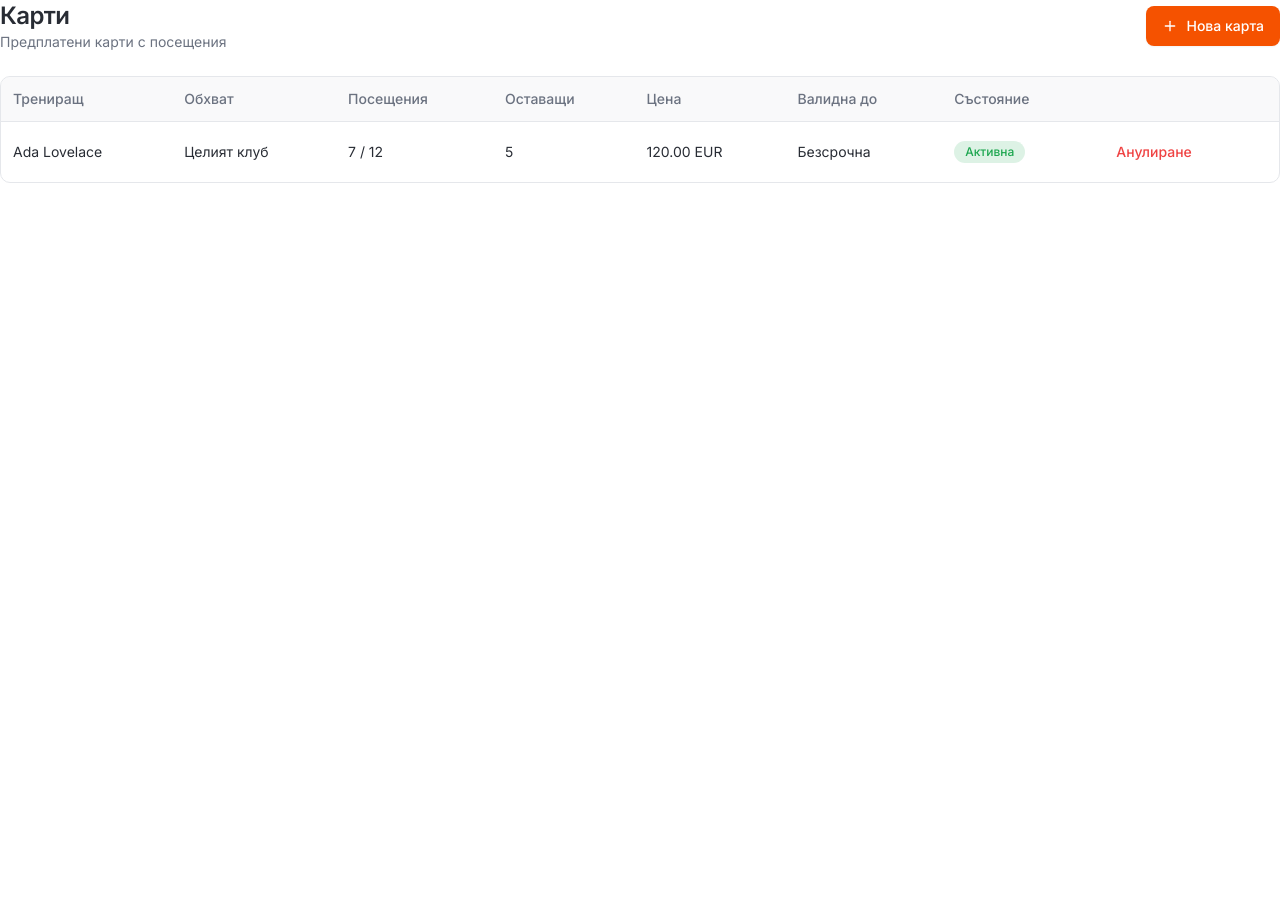
Scenario: CardsPage — cancel with prorated refund (TKT-0115) › pre-fills price / totalVisits × visitsRemaining: 120 / 12 × 5 = 50.00
Expected: the text "Ada Lovelace" is shown, [1, 122, 172, 182]
Click the button "Анулиране" at (1154, 152), box [1104, 134, 1204, 170]
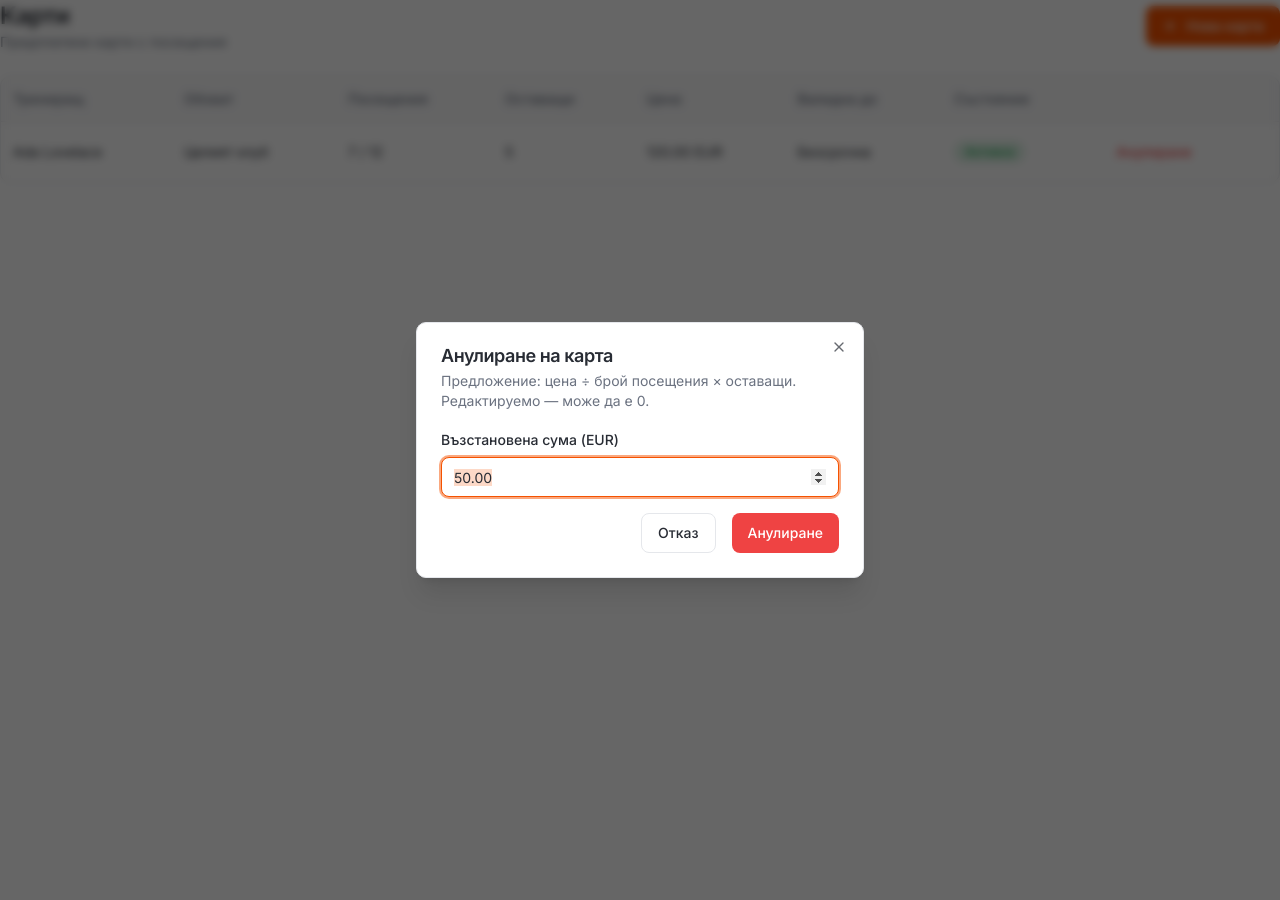
Now the number field with id "cancel-amount" holds "50.00", box [441, 457, 839, 497]
